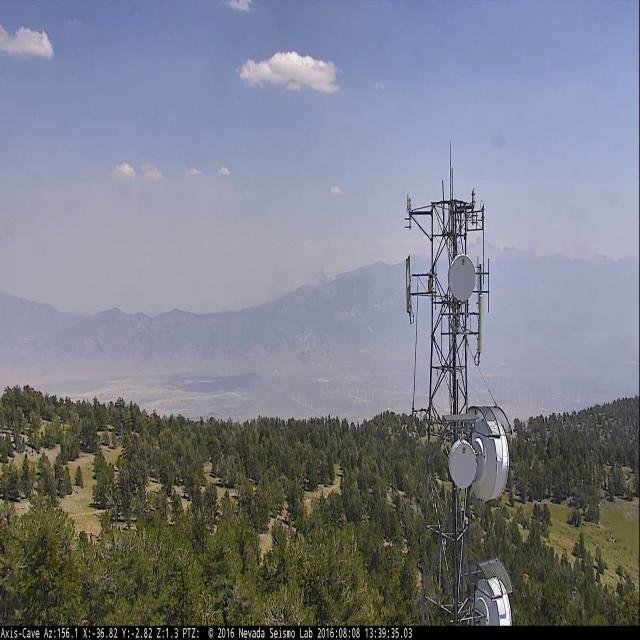smoke: (305, 254, 344, 290)
